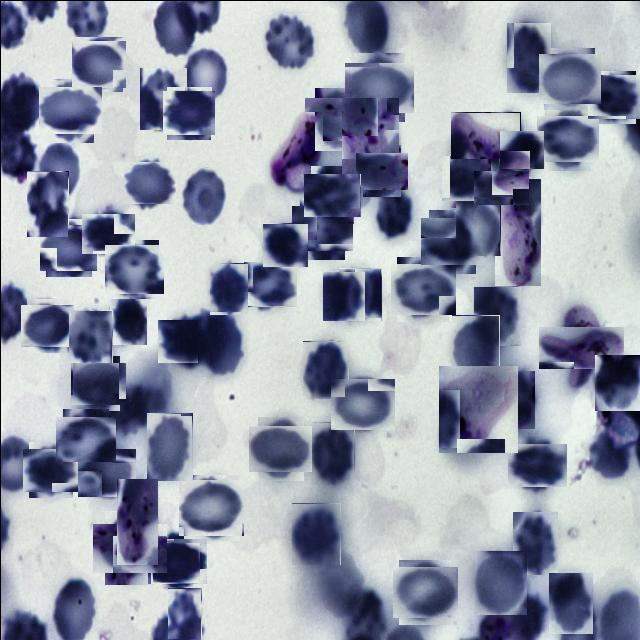red blood cell: (98, 516, 160, 578), (180, 477, 242, 538), (348, 56, 408, 116), (394, 562, 454, 621), (393, 260, 451, 318), (333, 374, 391, 432), (474, 550, 526, 614), (506, 21, 551, 92), (540, 49, 596, 106), (178, 45, 228, 108), (42, 82, 98, 138), (262, 11, 316, 69), (146, 412, 192, 480), (451, 314, 499, 379), (252, 421, 308, 476), (424, 213, 479, 269), (291, 502, 340, 564), (197, 311, 243, 377), (540, 111, 594, 166), (106, 241, 160, 296), (79, 446, 133, 500), (139, 67, 185, 129), (512, 511, 557, 574), (309, 92, 362, 145), (294, 202, 348, 254), (58, 412, 112, 464), (473, 286, 520, 345), (26, 170, 68, 236), (150, 534, 202, 587), (180, 167, 228, 224), (311, 421, 354, 484), (42, 221, 94, 273), (162, 314, 214, 366), (36, 141, 80, 202), (548, 572, 592, 633), (302, 340, 348, 398), (510, 439, 562, 490), (444, 152, 495, 204), (73, 38, 124, 89), (594, 354, 639, 410), (455, 199, 500, 255), (244, 259, 294, 309), (25, 444, 75, 494), (306, 170, 356, 220), (371, 182, 414, 240), (73, 358, 122, 407), (68, 309, 112, 362), (23, 301, 71, 349), (589, 72, 637, 120), (164, 88, 212, 136), (338, 267, 381, 320), (496, 370, 534, 428), (126, 159, 172, 206), (85, 210, 132, 256), (322, 271, 364, 320), (209, 262, 248, 314), (479, 164, 523, 210), (358, 148, 403, 192), (588, 430, 629, 478), (154, 540, 198, 584), (262, 222, 306, 266), (109, 295, 146, 344), (167, 587, 201, 638), (501, 128, 542, 170)
trophozoite: (438, 364, 518, 452), (341, 96, 399, 182), (494, 178, 540, 285), (548, 314, 612, 378), (269, 111, 322, 187), (116, 478, 157, 564), (450, 111, 520, 158)
